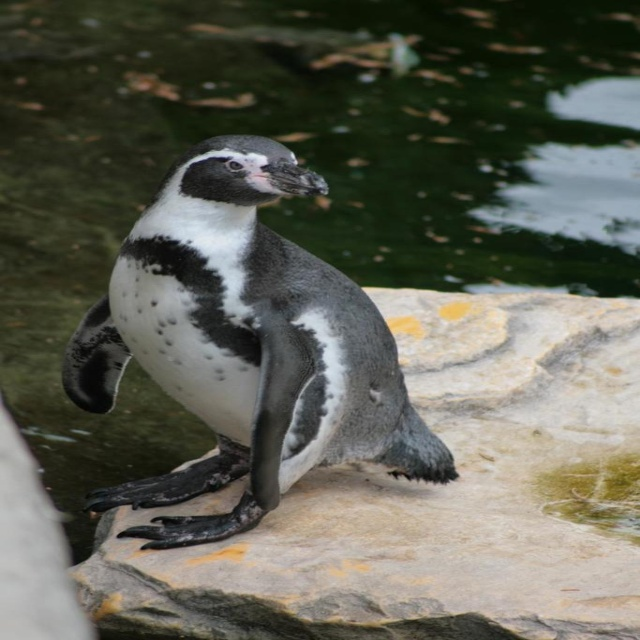Penguin: (56, 132, 464, 554)
